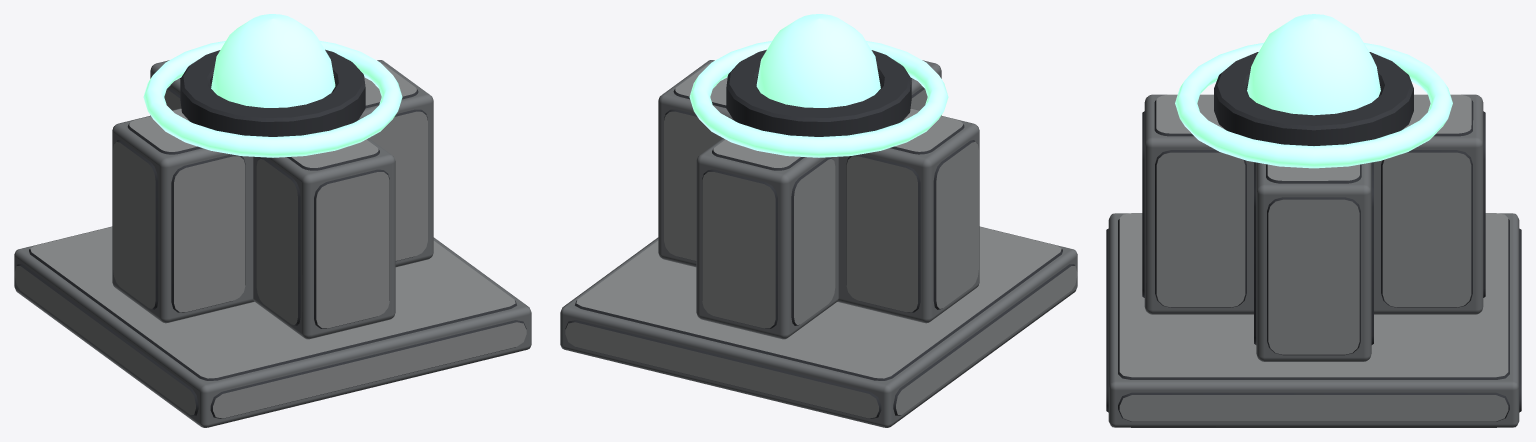
Rendered from R4X_RepairPulse.glb.
3 views of the same model, side by side, from view 1: azimuth 30°, elevation 25°; view 2: azimuth 150°, elevation 25°; view 3: azimuth 270°, elevation 25° (orthographic). The views are drawn at different scales.
Visible parts, largest first — view 1: R4X_RepairPulse_Body; view 2: R4X_RepairPulse_Body; view 3: R4X_RepairPulse_Body.
Boxes of the visible parts, <box> form: R4X_RepairPulse_Body: <box>14,14,531,427</box>; R4X_RepairPulse_Body: <box>560,14,1077,427</box>; R4X_RepairPulse_Body: <box>1106,14,1521,427</box>.
Size of the model in its own units: 0.52 by 0.4512 by 0.52.
